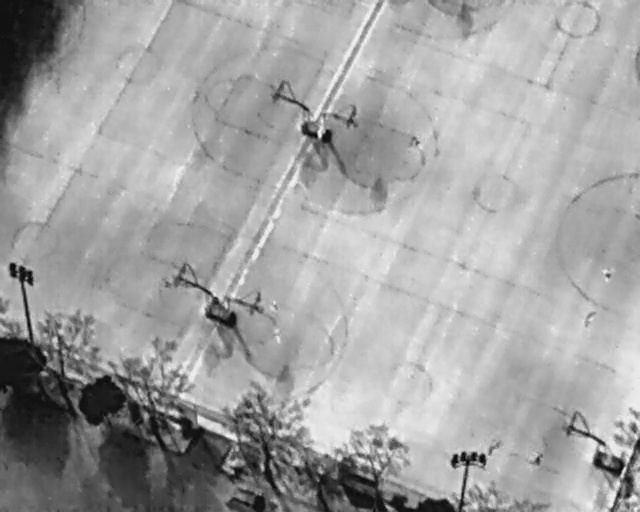Person: (407, 133, 422, 151), (603, 263, 614, 283), (271, 325, 282, 345), (271, 298, 280, 315)
